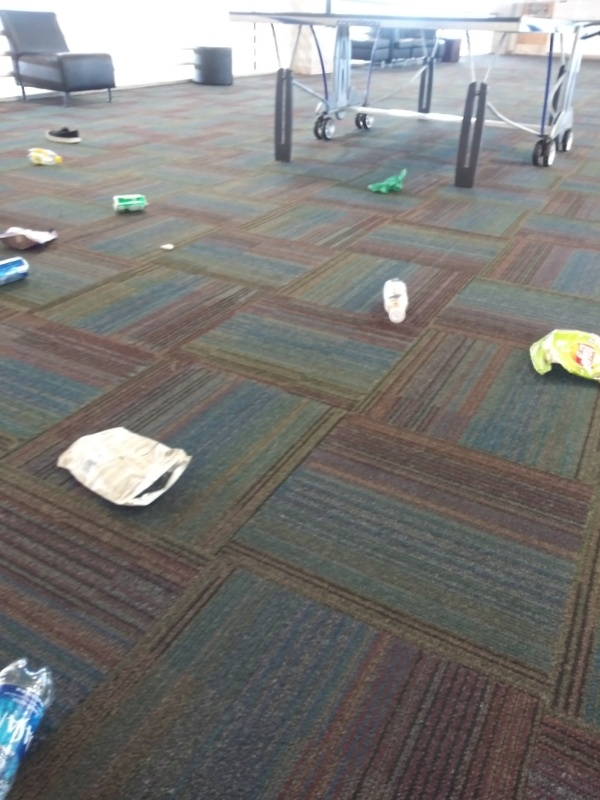bag: (53, 421, 196, 514), (522, 326, 600, 387), (1, 222, 64, 254)
bottle: (2, 654, 64, 800), (379, 275, 412, 325), (24, 143, 67, 168)
can: (1, 254, 32, 293), (110, 192, 151, 216)
